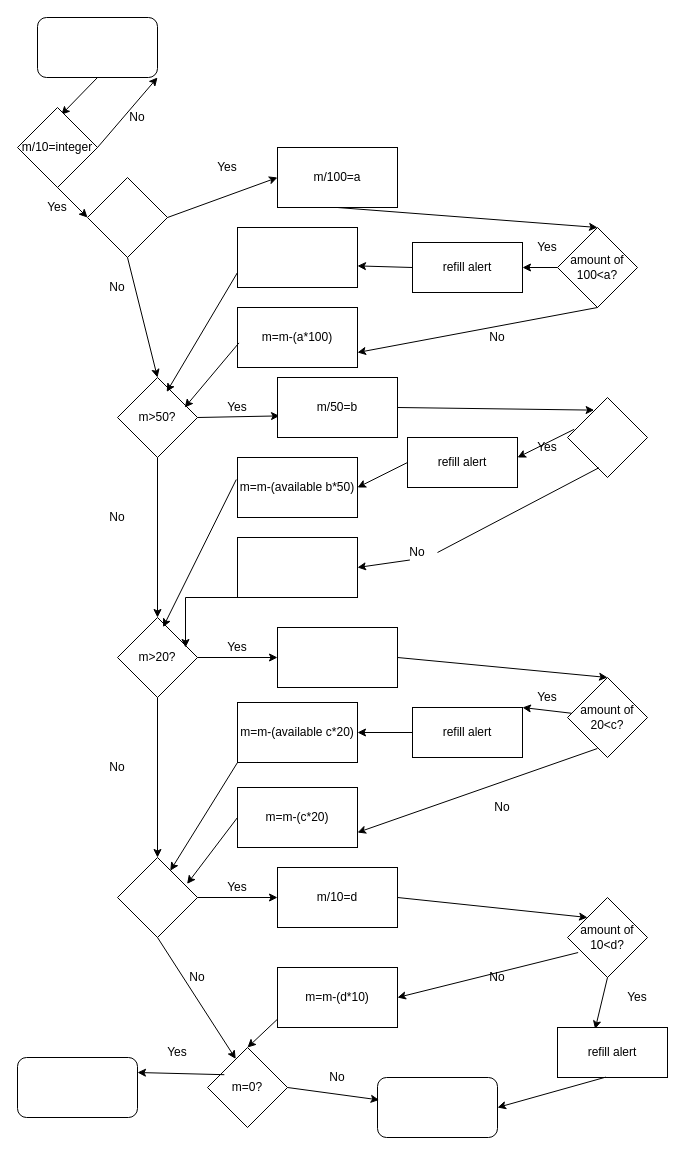
Image size: 685x1155. Some labels were removed from this diagram. Here are the shapes that lost their labels. From the top down, the centre of each, then its label:
At point (97, 47): "Input Value = Variable m".
At point (127, 217): "m>100?".
At point (297, 257): "m=m-(available a*100)".
At point (607, 437): "amount of 50<b?".
At point (297, 567): "m=m-(b*50)".
At point (337, 657): "m/20=c".
At point (157, 897): "m>10?".
At point (77, 1087): "Output - a=100eur b=50eur c=20eur d=10eur".
At point (437, 1107): "Output - Malfunction, try other value or other ATM".
